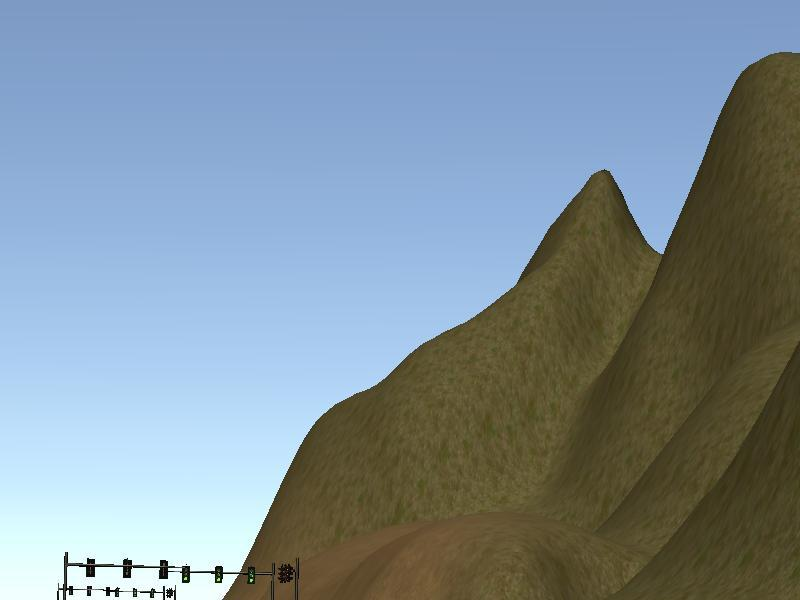Green: (181, 563, 190, 585), (246, 563, 255, 585), (214, 564, 223, 584)
